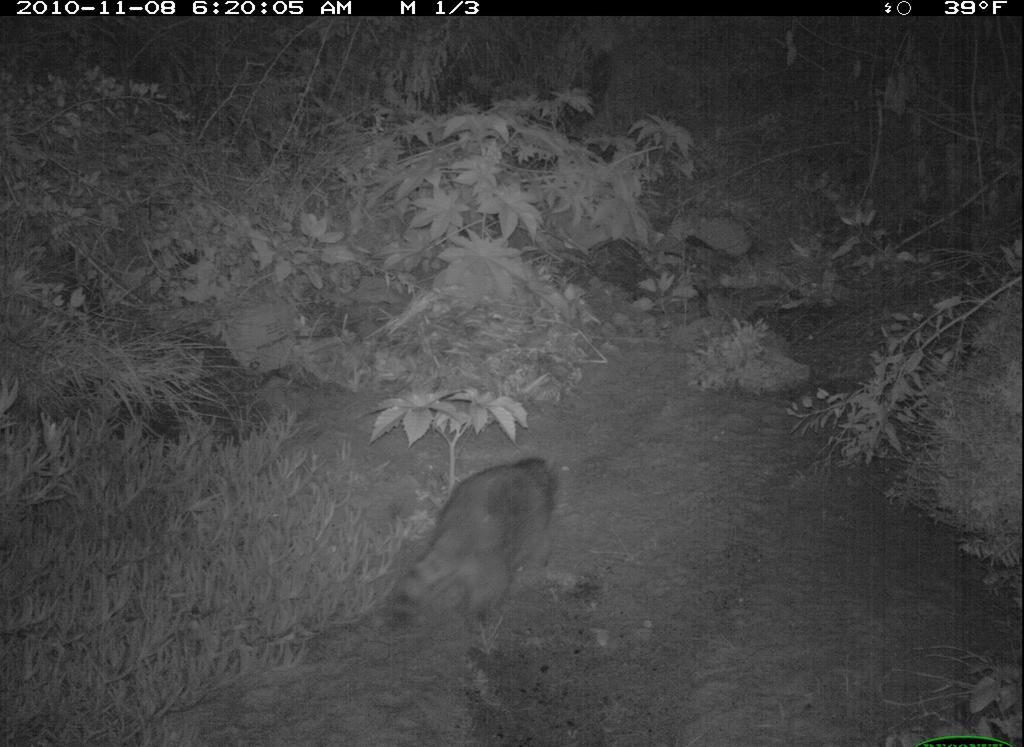raccoon: (388, 447, 564, 646)
